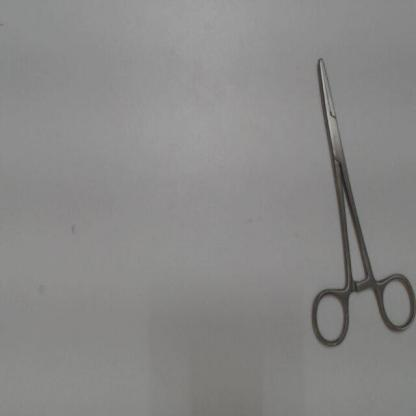Mayo Needle Holder: (304, 44, 416, 356)
